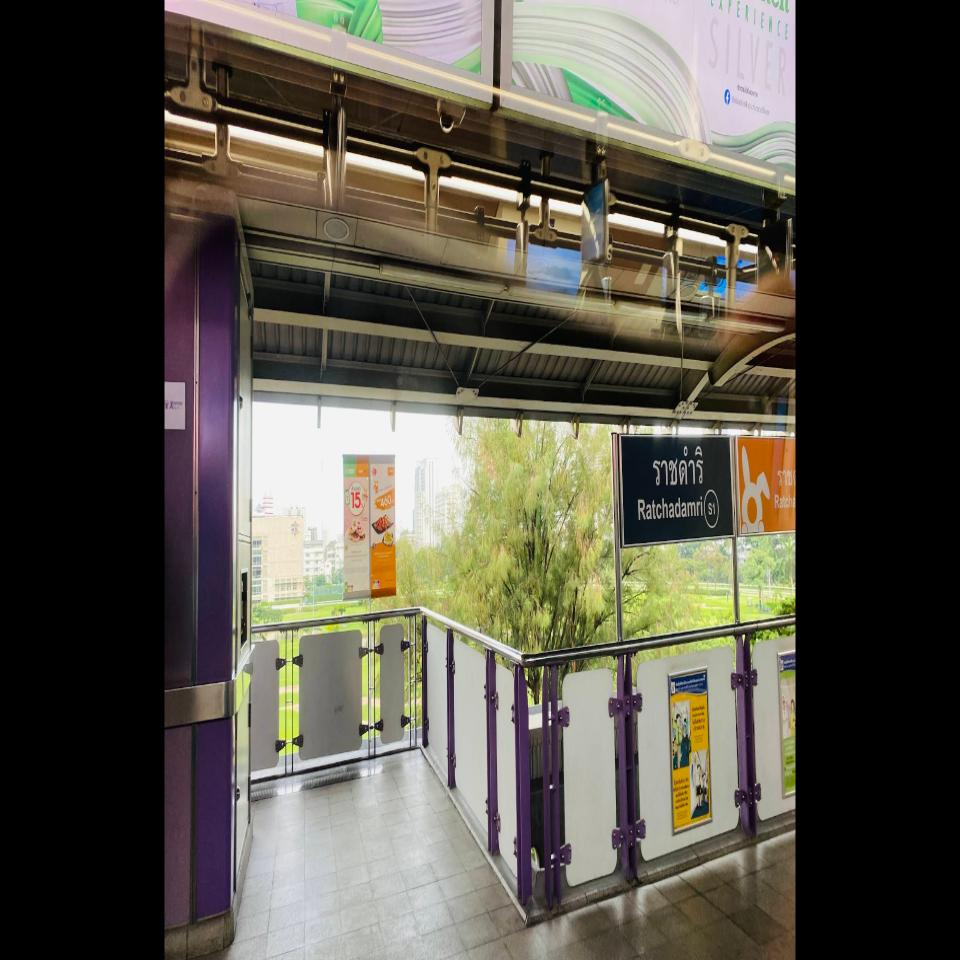signage: (618, 432, 736, 548)
